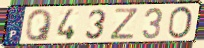3: (84, 8, 107, 41), (141, 7, 164, 40)
4: (55, 8, 77, 42)
O: (166, 5, 193, 40)
Q: (24, 8, 54, 43)
Z: (108, 8, 140, 41)
